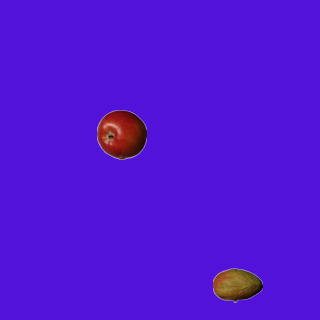Apple Braeburn: (96, 109, 146, 159)
Papaya: (212, 260, 262, 310)
